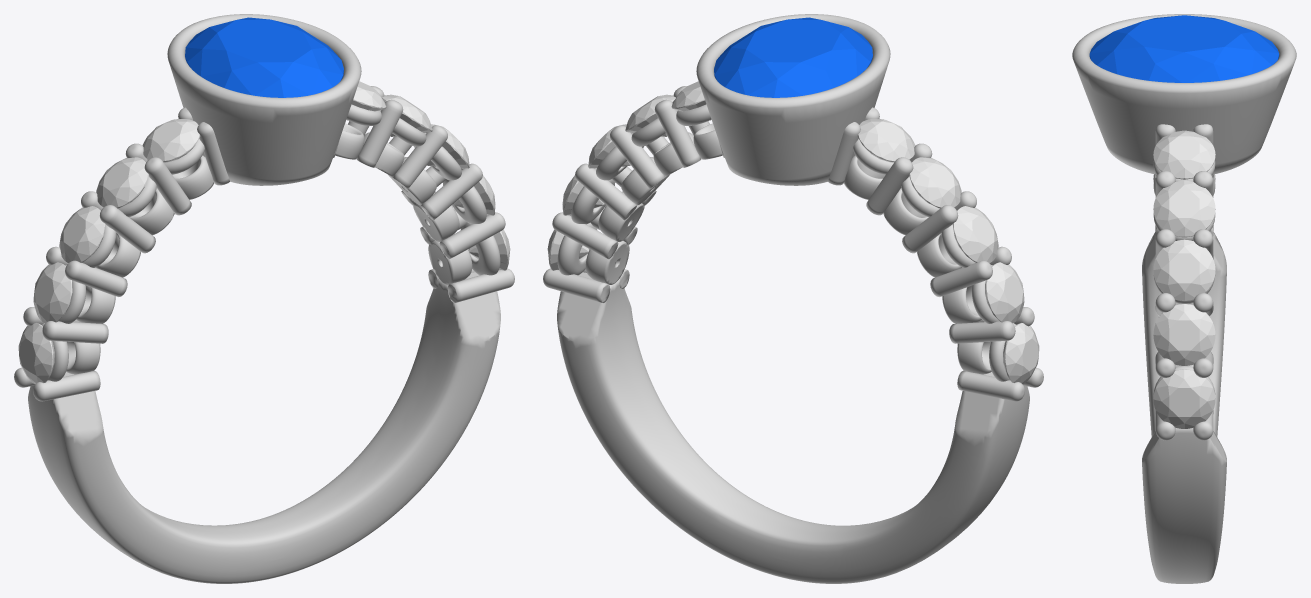
The model's file is bluesapphire-oval-platinum-bezelset-straighttaperedband-11stone.glb.
3 views of the same model, side by side, from view 1: azimuth 30°, elevation 25°; view 2: azimuth 150°, elevation 25°; view 3: azimuth 270°, elevation 25° (orthographic).
Visible parts, largest first — view 1: metal, stone.002, side.023, side.022, side.021, side.024, side.020, side.028, side.029; view 2: metal, stone.002, side.023, side.022, side.021, side.024, side.020, side.028, side.029; view 3: metal, stone.002, side.026, side.027, side.025, side.028, side.029.
Part boxes in pixels (bbox=[...]): metal: bbox=[14, 14, 514, 583]; stone.002: bbox=[185, 17, 343, 97]; side.023: bbox=[96, 157, 148, 208]; side.022: bbox=[59, 206, 105, 262]; side.021: bbox=[33, 262, 72, 323]; side.024: bbox=[142, 119, 200, 162]; side.020: bbox=[18, 323, 54, 384]; side.028: bbox=[382, 94, 432, 136]; side.029: bbox=[347, 81, 386, 120]; metal: bbox=[543, 14, 1043, 583]; stone.002: bbox=[714, 17, 872, 97]; side.023: bbox=[909, 157, 961, 208]; side.022: bbox=[952, 206, 998, 262]; side.021: bbox=[985, 262, 1024, 323]; side.024: bbox=[857, 119, 915, 162]; side.020: bbox=[1003, 323, 1039, 384]; side.028: bbox=[625, 94, 675, 136]; side.029: bbox=[671, 81, 710, 120]; metal: bbox=[1072, 14, 1296, 583]; stone.002: bbox=[1089, 15, 1279, 82]; side.026: bbox=[1153, 304, 1215, 365]; side.027: bbox=[1153, 239, 1215, 300]; side.025: bbox=[1153, 369, 1215, 428]; side.028: bbox=[1153, 180, 1215, 237]; side.029: bbox=[1153, 130, 1215, 179].
Bounding box in the file's own units: 22.05 × 23.4 × 9.04.
